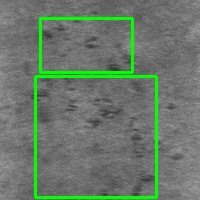rolled-in_scale: (35, 76, 156, 197), (40, 18, 132, 72)
